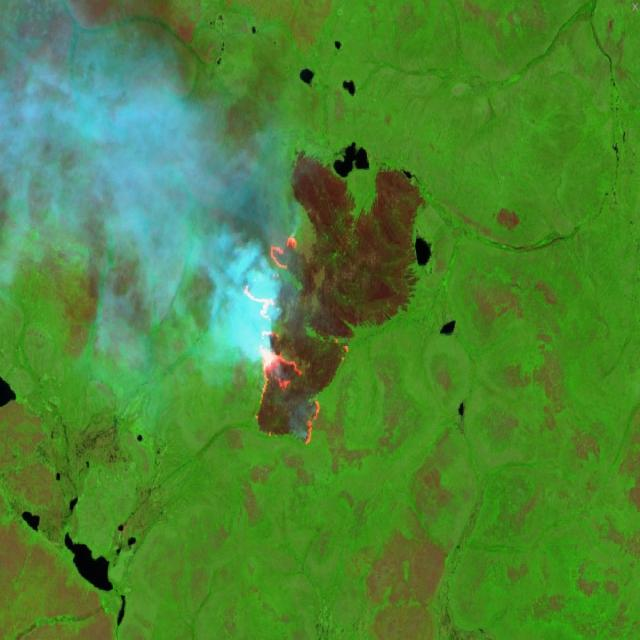fire: (242, 230, 322, 448)
